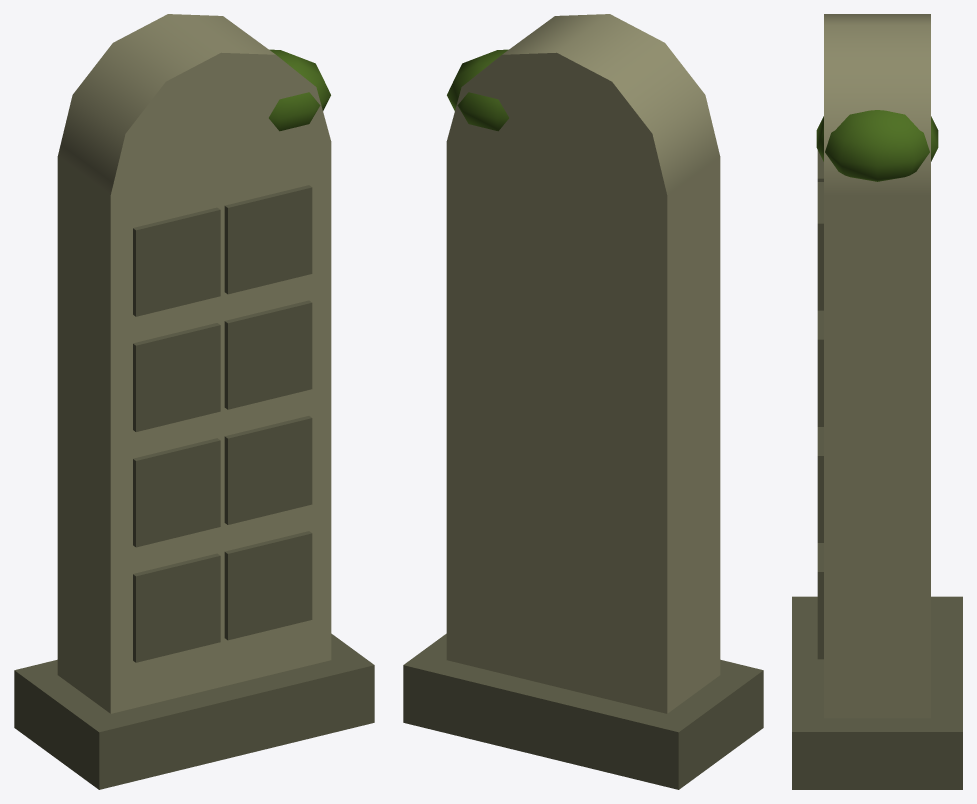
The model's file is jg_stele.glb.
3 views of the same model, side by side, from view 1: azimuth 30°, elevation 25°; view 2: azimuth 150°, elevation 25°; view 3: azimuth 270°, elevation 25° (orthographic).
Parts seen in each view (by area): view 1: jg_stele; view 2: jg_stele; view 3: jg_stele.
Boxes of the visible parts, x1=… form: jg_stele: x1=14, y1=14, x2=374, y2=789; jg_stele: x1=403, y1=14, x2=763, y2=789; jg_stele: x1=792, y1=14, x2=962, y2=789.
Size of the model in its own units: 1.5 by 3.6 by 0.8.
